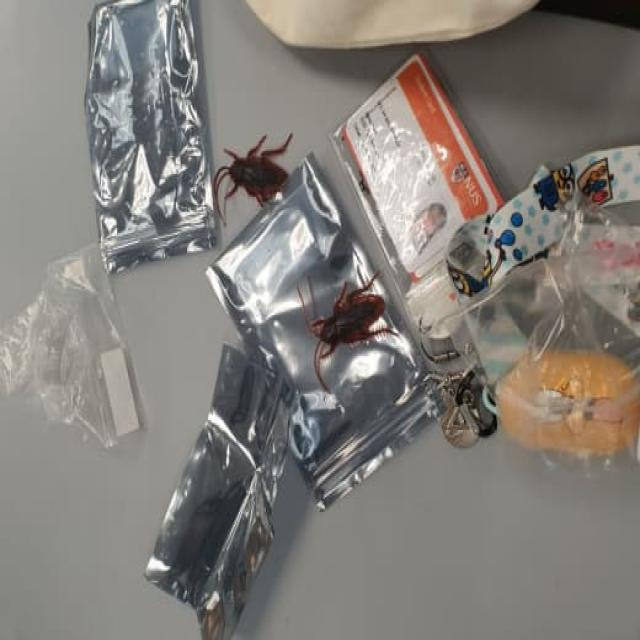Cockroach: (292, 266, 405, 399), (213, 120, 297, 228)
